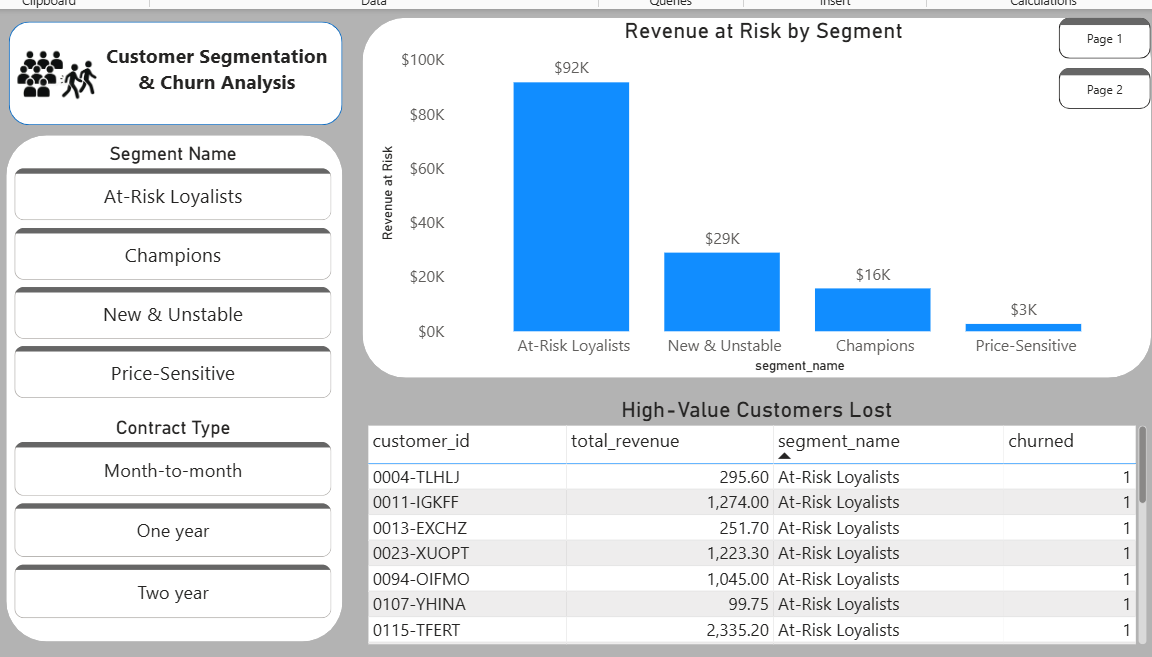

The dashboard page shown, as its layout file describes it:
{"tool":"powerbi","page":{"name":"Page 3","canvas":[1280,720],"ordinal":2},"visuals":[{"type":"shape","box":[397.9,9.6,865.9,395.2],"z":0},{"type":"columnChart","title":"Revenue at Risk by Segment","fields":{"Y":["Measure.Revenue at Risk"],"Category":["customer_features.segment_name"]},"box":[413,9.6,850.8,395.2],"z":1000},{"type":"shape","box":[6.9,138.6,369.1,555.7],"z":2000},{"type":"tableEx","title":"High-Value Customers Lost","fields":{"Values":["customer_features.customer_id","customer_features.total_revenue","customer_features.segment_name","customer_features.churned"]},"box":[397.9,425.4,865.9,277.2],"z":3000},{"type":"advancedSlicerVisual","title":"Contract Type","fields":{"Values":["dim_subscription.contract"]},"box":[11,447.3,358.1,227.8],"z":4000},{"type":"advancedSlicerVisual","title":"Segment Name","fields":{"Values":["customer_features.segment_name"]},"box":[11,146.8,358.1,288.2],"z":5000},{"type":"shape","box":[9.6,13.7,366.4,113.9],"z":6000},{"type":"pageNavigator","box":[1162.3,9.6,101.5,100.2],"z":7000},{"type":"textbox","box":[100.2,31.6,275.8,78.2],"z":7001},{"type":"image","box":[11,13.7,101.5,113.9],"z":7002}]}

Visuals, with their boxes on the page's 1280x720 design canvas (x1, y1, x2, y2). These are canvas units, not pixel positions in the 1152x657 screenshot, which may show the page scaled, cropped or inside an application window:
shape: [x1=398, y1=10, x2=1264, y2=405]
"Revenue at Risk by Segment" columnChart: [x1=413, y1=10, x2=1264, y2=405]
shape: [x1=7, y1=139, x2=376, y2=694]
"High-Value Customers Lost" tableEx: [x1=398, y1=425, x2=1264, y2=703]
"Contract Type" advancedSlicerVisual: [x1=11, y1=447, x2=369, y2=675]
"Segment Name" advancedSlicerVisual: [x1=11, y1=147, x2=369, y2=435]
shape: [x1=10, y1=14, x2=376, y2=128]
pageNavigator: [x1=1162, y1=10, x2=1264, y2=110]
textbox: [x1=100, y1=32, x2=376, y2=110]
image: [x1=11, y1=14, x2=112, y2=128]
